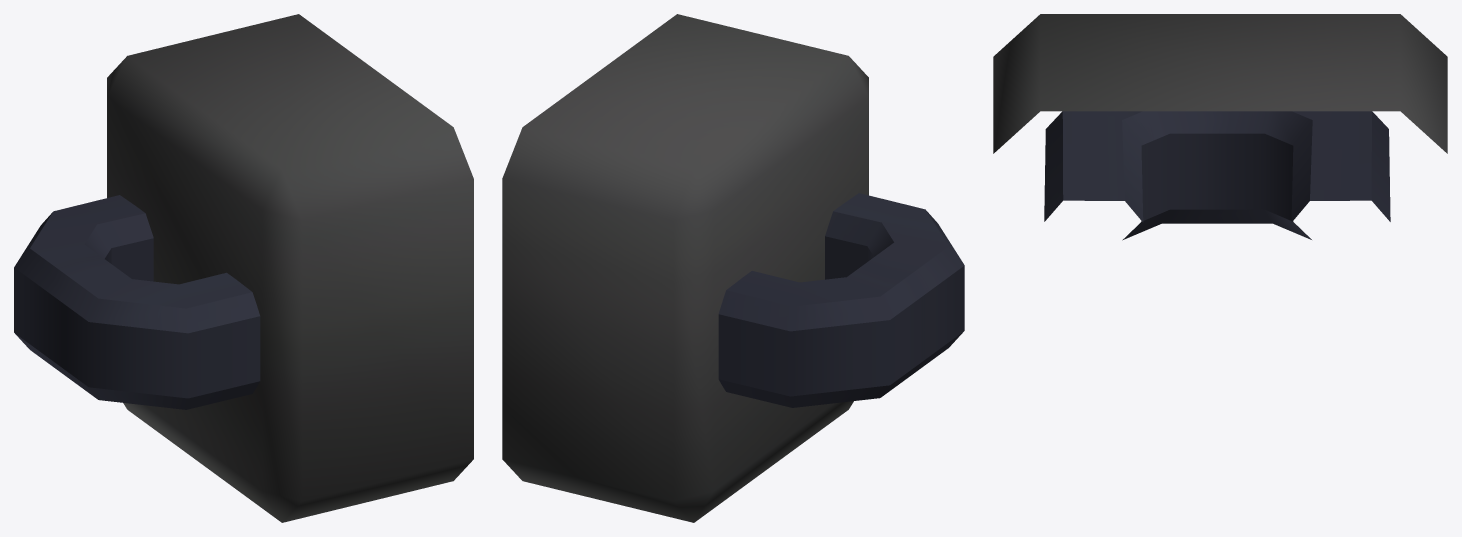
File: ChainCube_3.glb
3 renders of one model, left to right at view 1: azimuth 30°, elevation 25°; view 2: azimuth 150°, elevation 25°; view 3: azimuth 270°, elevation 25°, orthographic. The views are drawn at different scales.
Parts seen in each view (by area): view 1: ChainCube_3; view 2: ChainCube_3; view 3: ChainCube_3.
Boxes of the visible parts, left/top/right/bottom form: ChainCube_3: left=14, top=14, right=473, bottom=522; ChainCube_3: left=502, top=14, right=964, bottom=522; ChainCube_3: left=993, top=14, right=1447, bottom=240.
Size of the model in its own units: 0.167 by 0.1731 by 0.1731.
2 materials, 2 textured.
